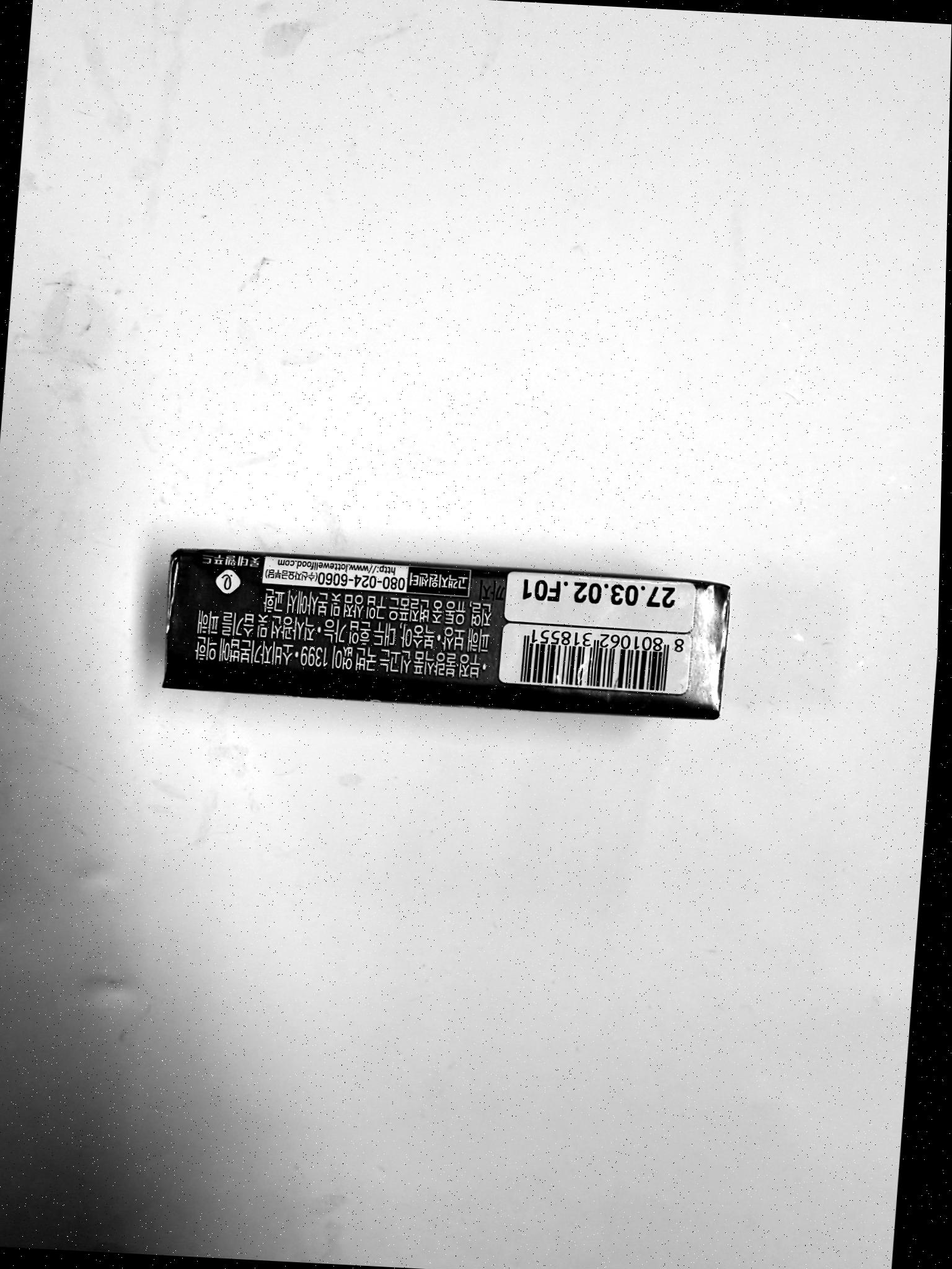gum_green: (163, 548, 729, 718)
